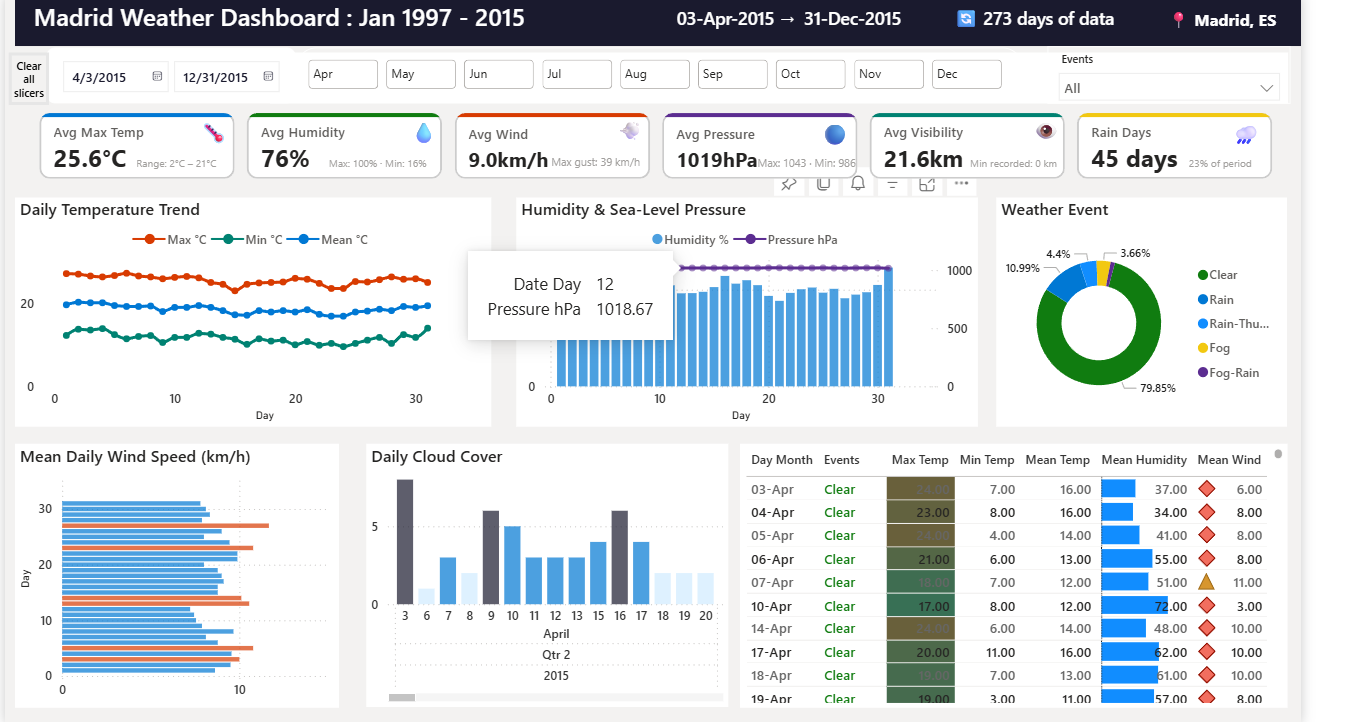

What the dashboard file says about the page in this screenshot:
{"tool":"powerbi","page":{"name":"Madrid Weather Jan 1997 - 2015","canvas":[1280,720],"ordinal":0},"visuals":[{"type":"shape","box":[261.1,56.3,1005.6,50.5],"z":0},{"type":"shape","box":[9.7,0,1270.4,50.7],"z":1000},{"type":"textbox","box":[23.1,0,551.1,51.9],"z":2000},{"type":"lineChart","title":"Daily Temperature Trend","fields":{"Y":["🌡️ Temp Measures.Avg Max Temp","🌡️ Temp Measures.Avg Min Temp","🌡️ Temp Measures.Avg Mean Temp"],"Category":["Date_Table.Date.Variation.Date Hierarchy.Day"]},"box":[10.1,200.5,470.3,226.5],"z":3000},{"type":"lineClusteredColumnComboChart","title":"Humidity & Sea-Level Pressure","fields":{"Y":["💧 Humidity Measures.Avg Mean Humidity"],"Y2":["🔵 Pressure Measures.Avg Mean Pressure"],"Category":["Date_Table.Date.Variation.Date Hierarchy.Day"]},"box":[505,200.5,455.9,226.5],"z":4000},{"type":"donutChart","title":"Weather Event","fields":{"Category":["madrid_weather. Events"],"Y":["🌧️ Weather Events Measures.Total Days"]},"box":[979.6,200.5,287.1,226.5],"z":5000},{"type":"clusteredBarChart","title":"Mean Daily Wind Speed (km/h)","fields":{"Y":["💨 Wind Measures.Avg Mean Wind"],"Category":["Date_Table.Date.Variation.Date Hierarchy.Day"]},"box":[10.1,442.9,320.3,261.1],"z":6000},{"type":"slicer","fields":{"Values":["Date_Table.Date"]},"box":[40.4,51.9,246.7,54.8],"z":7000},{"type":"columnChart","title":"Daily Cloud Cover","fields":{"Y":["Avg(madrid_weather. CloudCover)"],"Category":["Date_Table.Date.Variation.Date Hierarchy.Year","Date_Table.Date.Variation.Date Hierarchy.Quarter","Date_Table.Date.Variation.Date Hierarchy.Month","Date_Table.Date.Variation.Date Hierarchy.Day"]},"box":[356.4,442.9,357.8,259.7],"z":8000},{"type":"textbox","box":[1142.7,8.7,137.1,64.9],"z":9000},{"type":"tableEx","fields":{"Values":["Date_Table.Day Month","madrid_weather. Events","🌡️ Temp Measures.Avg Max Temp","🌡️ Temp Measures.Avg Min Temp","🌡️ Temp Measures.Avg Mean Temp","💧 Humidity Measures.Avg Mean Humidity","💨 Wind Measures.Avg Mean Wind"]},"box":[725.7,442.9,541,261.1],"z":10000},{"type":"slicer","fields":{"Values":["madrid_weather. Events"]},"box":[1029.1,50.7,240.1,56.7],"z":11000},{"type":"card","fields":{"Values":["Date_Table.Selected Date Range"]},"box":[587.2,0,373.7,50.5],"z":12000},{"type":"card","fields":{"Values":["Date_Table.days total"]},"box":[904.6,0,223.6,50.5],"z":13000},{"type":"advancedSlicerVisual","fields":{"Values":["Date_Table.Month Short"]},"box":[287.1,51.9,717.8,53.1],"z":14000},{"type":"cardVisual","fields":{"Data":["Cards New.max avg cel","Cards New.max avg chuml","Cards New.mean wind avg","Cards New.avg pre","Cards New.mean vsis","Cards New.days rain"]},"box":[9.7,92.9,1270.4,113.4],"z":15000},{"type":"textbox","box":[124.1,150,93.8,40.4],"z":16000},{"type":"textbox","box":[188.2,117,55.5,37.4],"z":17000},{"type":"textbox","box":[314.5,150,121.2,31.7],"z":18000},{"type":"textbox","box":[395.3,116.9,56.3,41.8],"z":19000},{"type":"textbox","box":[598.4,114.6,44.6,38.6],"z":20000},{"type":"textbox","box":[801.1,118.2,55.5,43.4],"z":21000},{"type":"textbox","box":[1009.8,114.6,37.4,38.6],"z":22000},{"type":"textbox","box":[1207.6,119.4,67.6,54.3],"z":23000},{"type":"textbox","box":[534.5,149.6,124.3,41],"z":24000},{"type":"textbox","box":[738.7,150,161.6,43.3],"z":25000},{"type":"textbox","box":[947.9,150,114,40.4],"z":26000},{"type":"textbox","box":[1164.3,150,96.7,30.3],"z":27000},{"type":"actionButton","box":[3.6,56.7,39.8,51.9],"z":27001}]}

Visuals, with their boxes on the page's 1280x720 design canvas (x1, y1, x2, y2). These are canvas units, not pixel positions in the 1359x722 screenshot, which may show the page scaled, cropped or inside an application window:
shape: box(261, 56, 1267, 107)
shape: box(10, 0, 1280, 51)
textbox: box(23, 0, 574, 52)
"Daily Temperature Trend" lineChart: box(10, 200, 480, 427)
"Humidity & Sea-Level Pressure" lineClusteredColumnComboChart: box(505, 200, 961, 427)
"Weather Event" donutChart: box(980, 200, 1267, 427)
"Mean Daily Wind Speed (km/h)" clusteredBarChart: box(10, 443, 330, 704)
slicer - Date_Table.Date: box(40, 52, 287, 107)
"Daily Cloud Cover" columnChart: box(356, 443, 714, 703)
textbox: box(1143, 9, 1280, 74)
tableEx - Date_Table.Day Month x madrid_weather. Events: box(726, 443, 1267, 704)
slicer - madrid_weather. Events: box(1029, 51, 1269, 107)
card - Date_Table.Selected Date Range: box(587, 0, 961, 50)
card - Date_Table.days total: box(905, 0, 1128, 50)
advancedSlicerVisual - Date_Table.Month Short: box(287, 52, 1005, 105)
cardVisual - Cards New.max avg cel x Cards New.max avg chuml: box(10, 93, 1280, 206)
textbox: box(124, 150, 218, 190)
textbox: box(188, 117, 244, 154)
textbox: box(314, 150, 436, 182)
textbox: box(395, 117, 452, 159)
textbox: box(598, 115, 643, 153)
textbox: box(801, 118, 857, 162)
textbox: box(1010, 115, 1047, 153)
textbox: box(1208, 119, 1275, 174)
textbox: box(534, 150, 659, 191)
textbox: box(739, 150, 900, 193)
textbox: box(948, 150, 1062, 190)
textbox: box(1164, 150, 1261, 180)
actionButton: box(4, 57, 43, 109)
